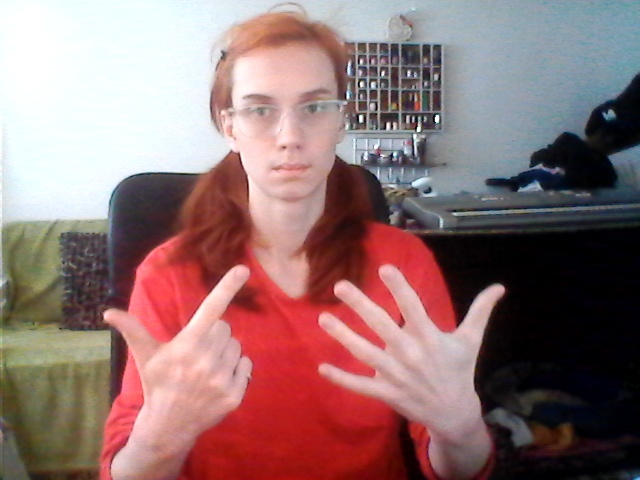sedem: (91, 256, 515, 433)
